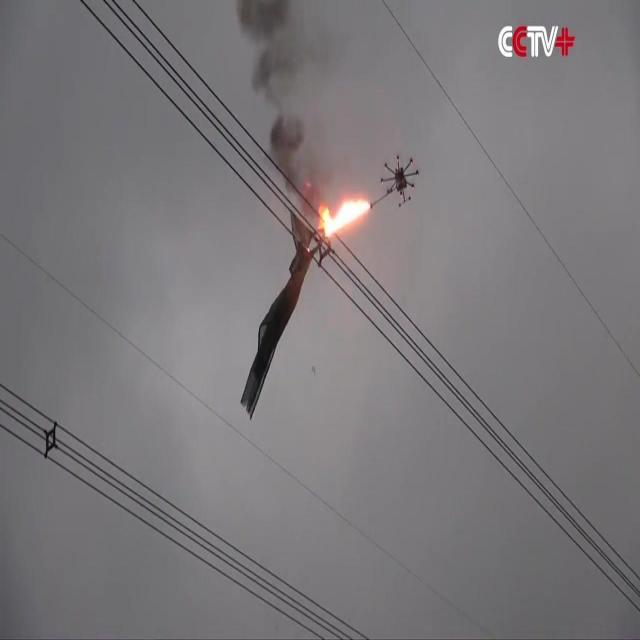UAV: (370, 155, 419, 209)
